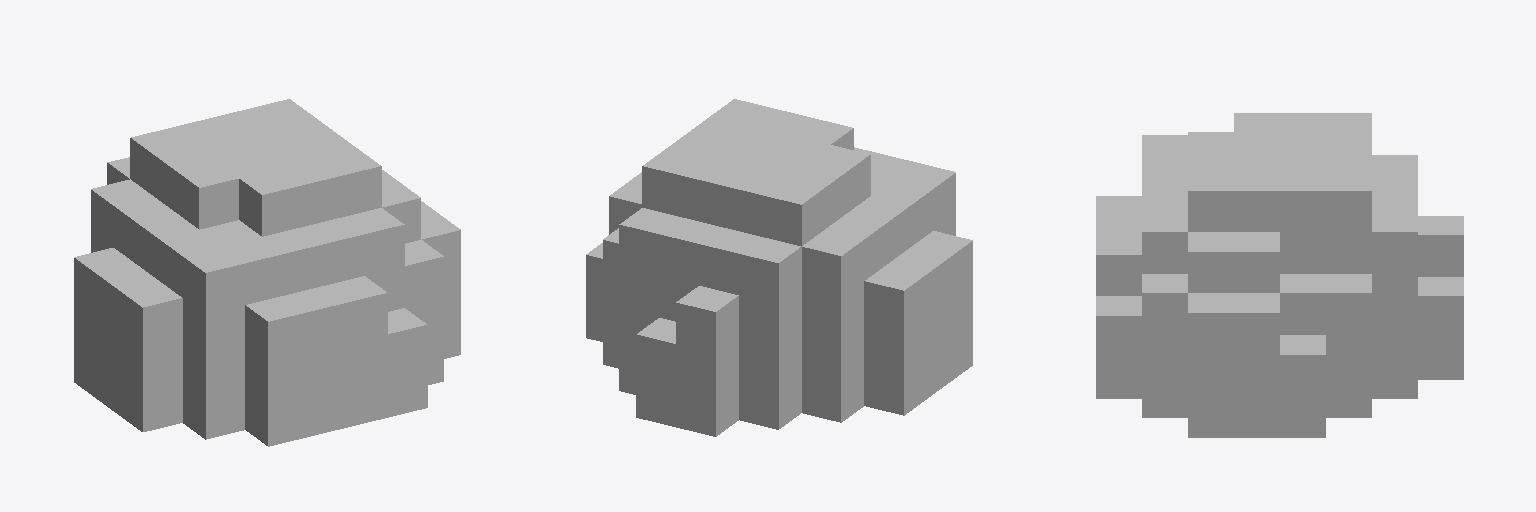
File: desert_rock.obj
3 renders of one model, left to right at view 1: azimuth 30°, elevation 25°; view 2: azimuth 150°, elevation 25°; view 3: azimuth 270°, elevation 25°, orthographic.
Bounding box in the file's own units: 8 × 5 × 8.